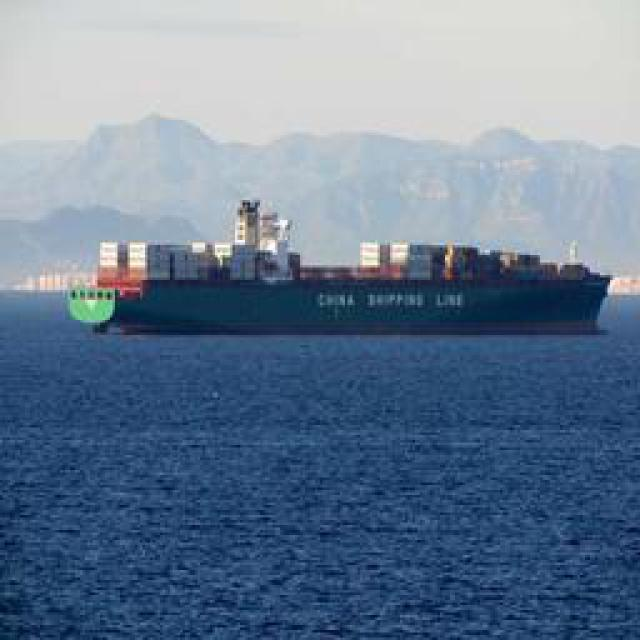Ship: (57, 231, 619, 339)
